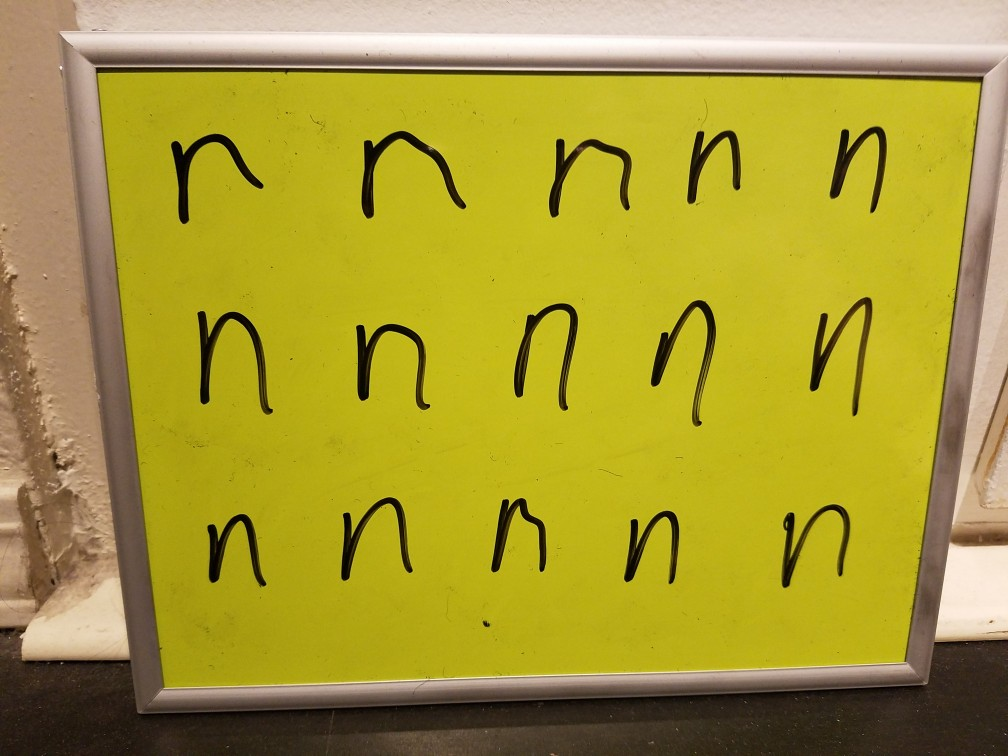n: (323, 97, 482, 235), (527, 112, 654, 240), (175, 288, 283, 432), (333, 298, 445, 433), (638, 283, 730, 440), (152, 118, 269, 234), (771, 481, 865, 606), (801, 275, 876, 427), (328, 482, 428, 592), (512, 286, 585, 420), (474, 476, 559, 591), (815, 116, 901, 221), (674, 115, 760, 217), (191, 492, 271, 600), (615, 486, 689, 600)
